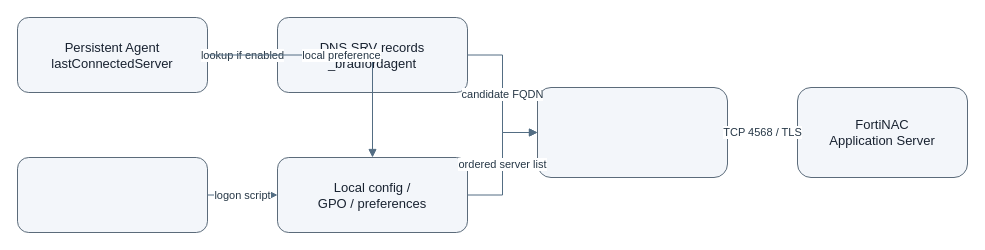
This 985x250 diagram has some shape labels left out. The shapes that lost their labels are listed below. From the top down, each one's centre as x and y in pixels, then its label:
At [632,132]: "Resolve host + validate certificate".
At [112,194]: "Passive Agent ServerURL registry".
